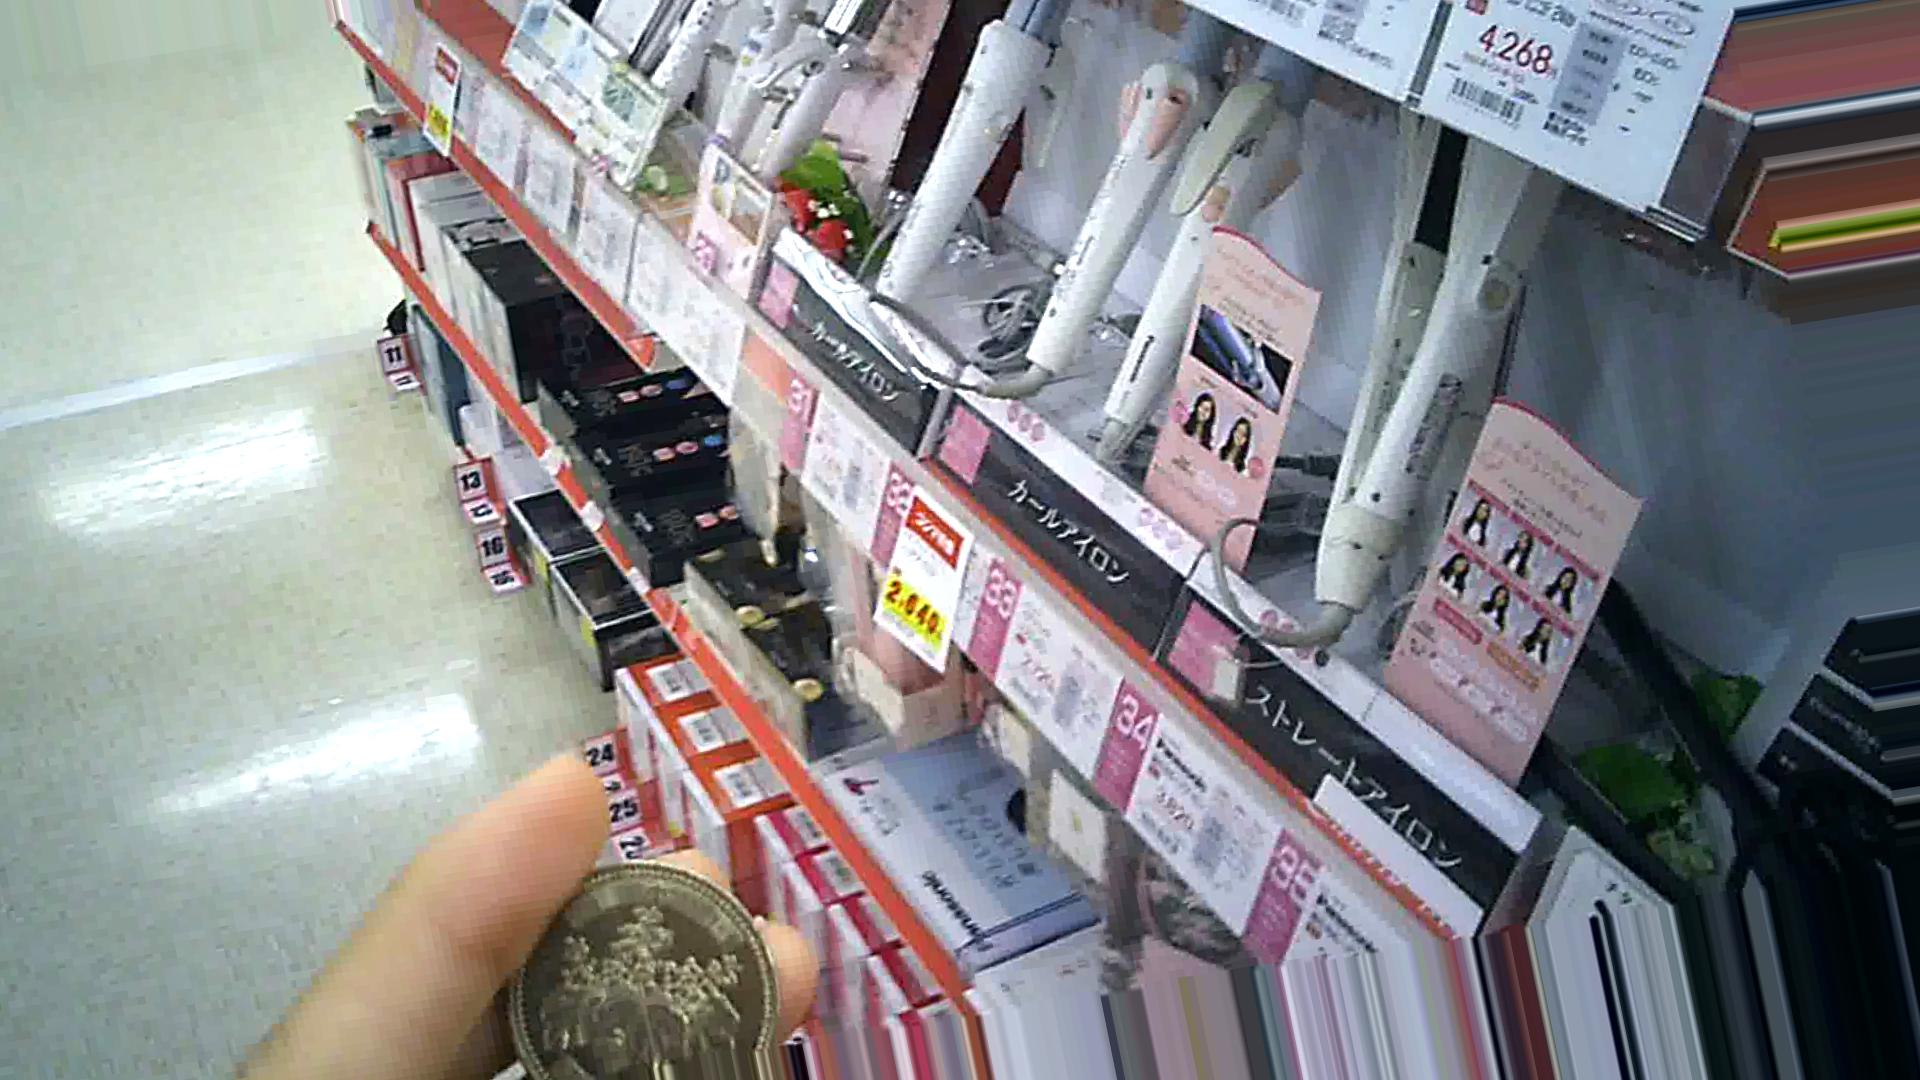500 Yen: (508, 847, 787, 1067)
